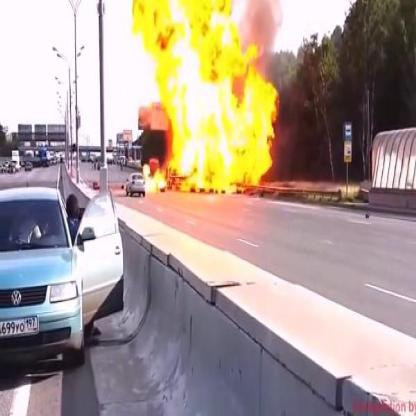fire: (130, 1, 285, 198)
